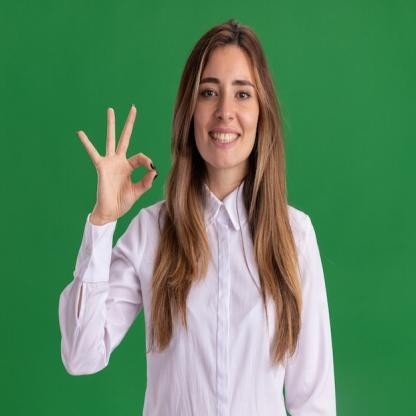ok: (74, 107, 155, 224)
